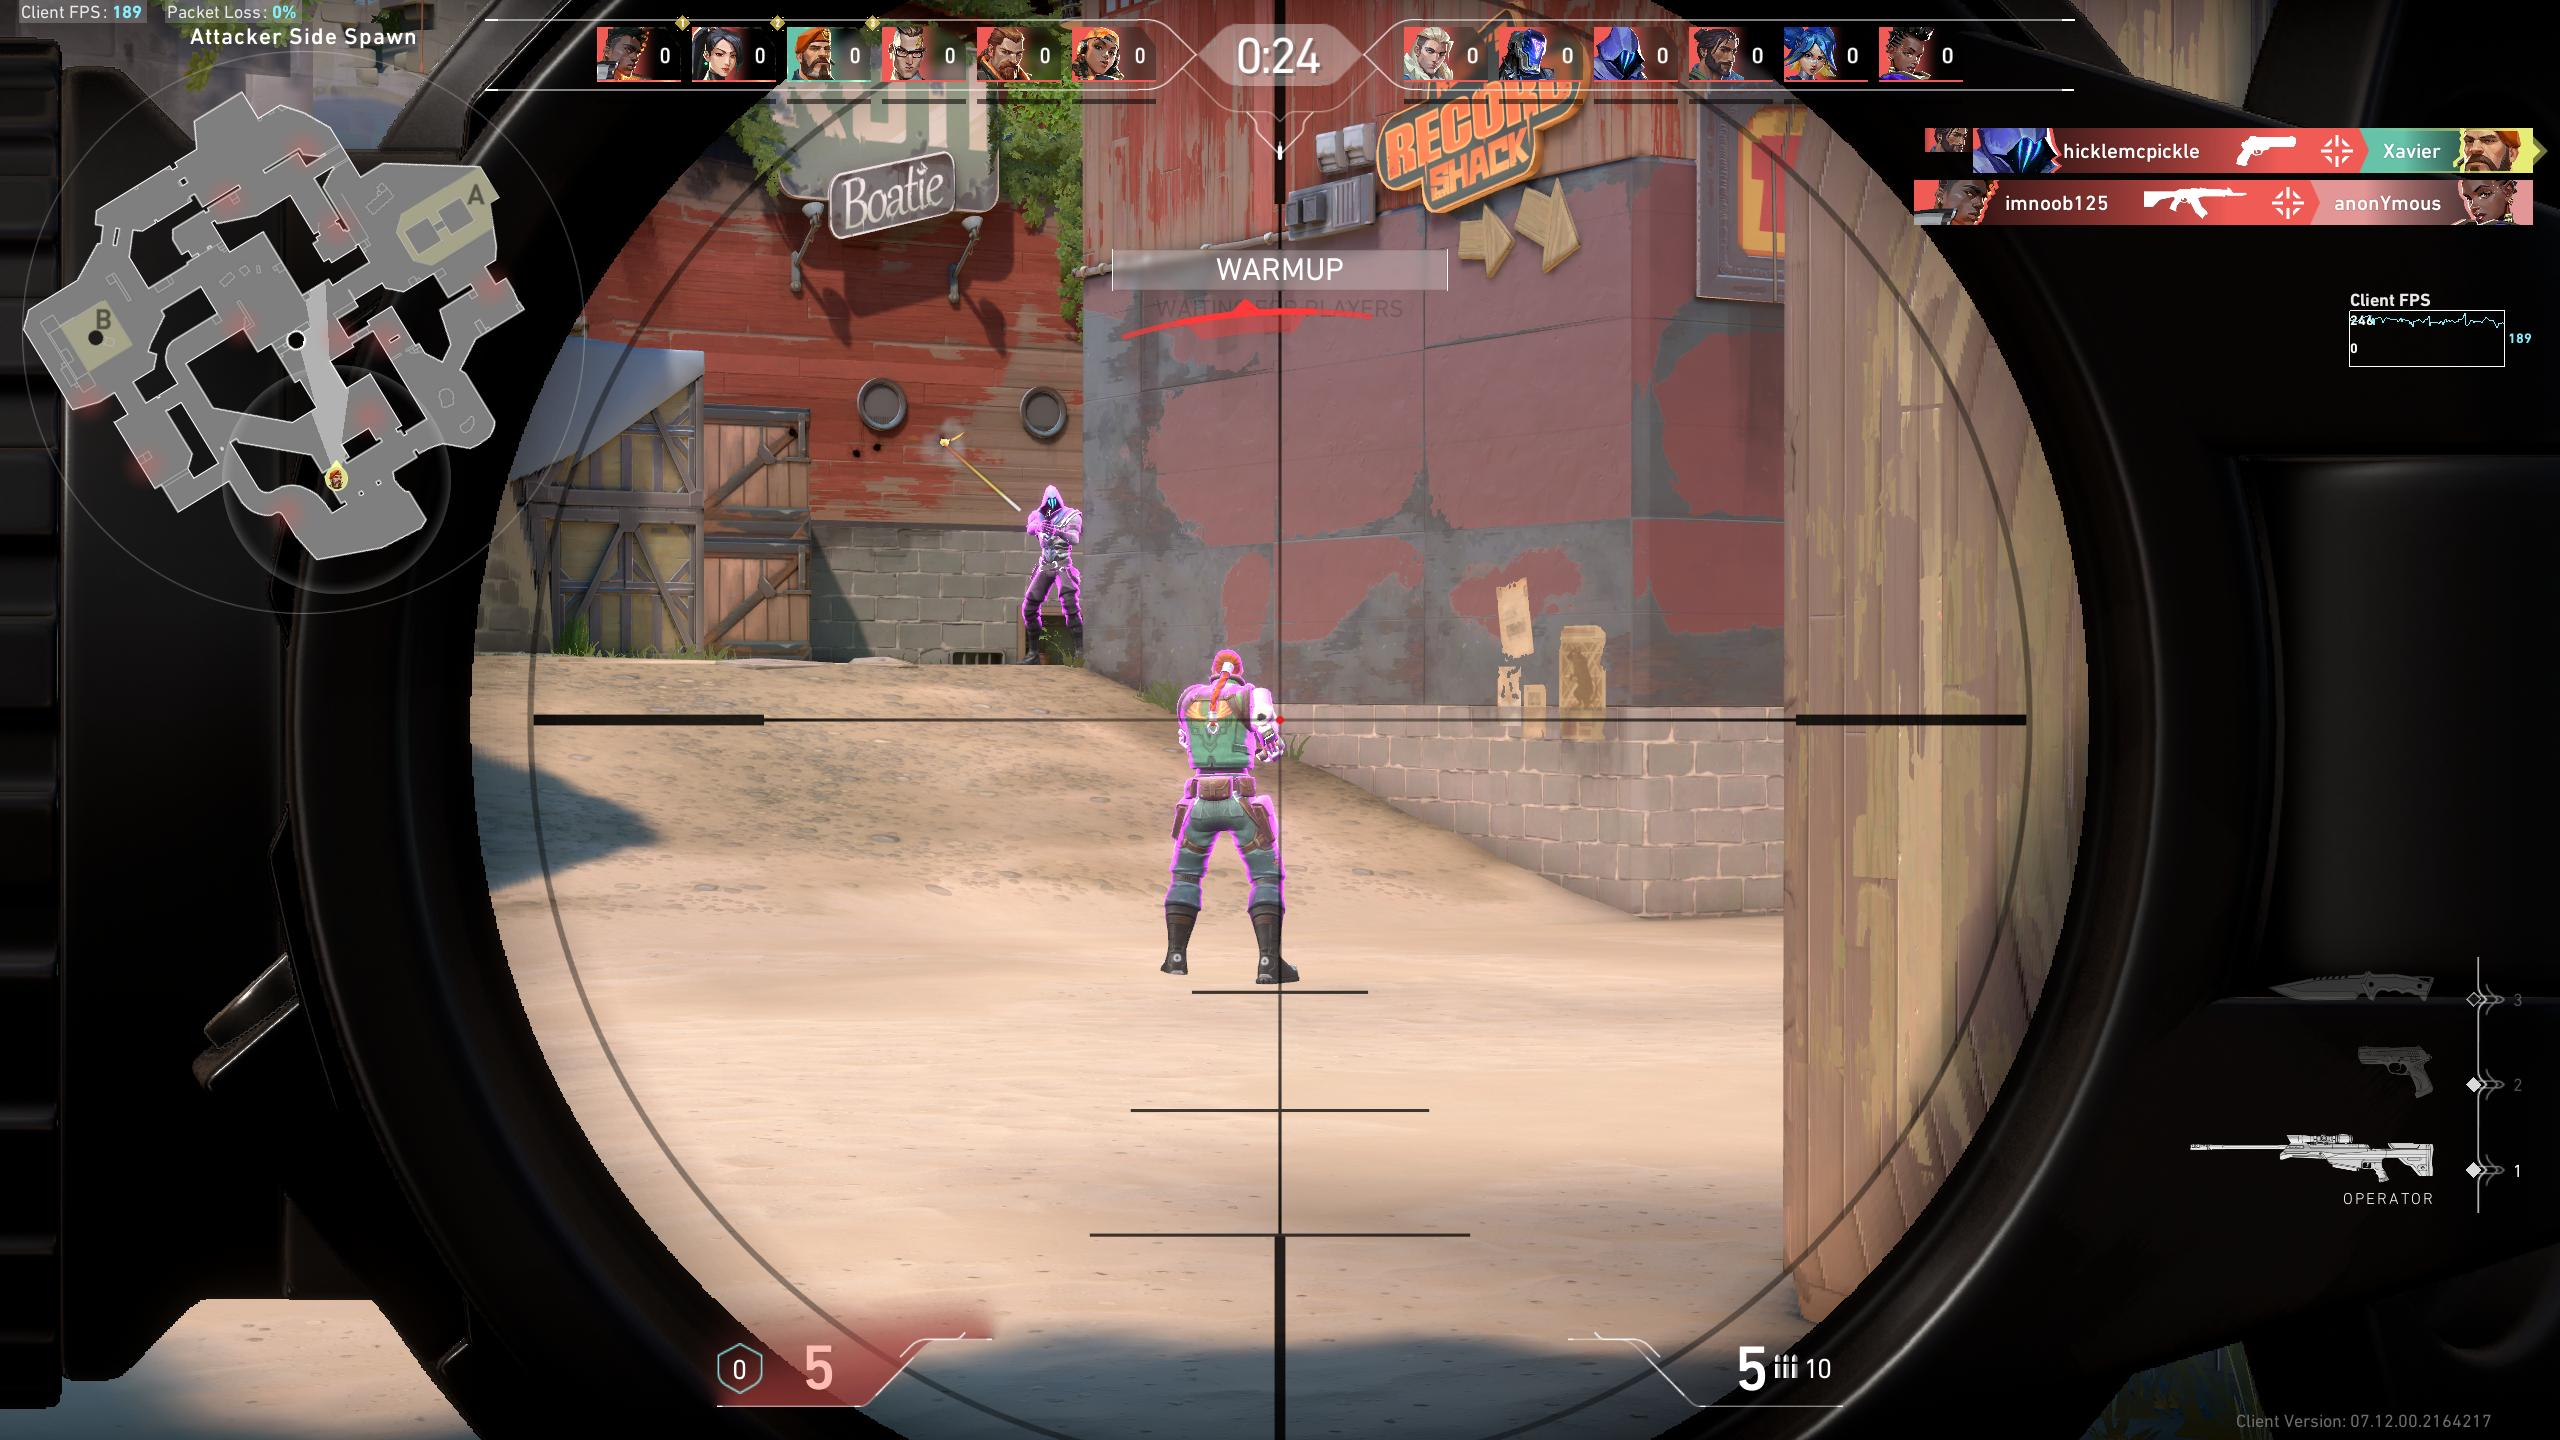enemyBody: (1190, 703, 1264, 818), (1036, 508, 1076, 608)
enemyHead: (1215, 644, 1250, 684), (1039, 485, 1073, 510)
